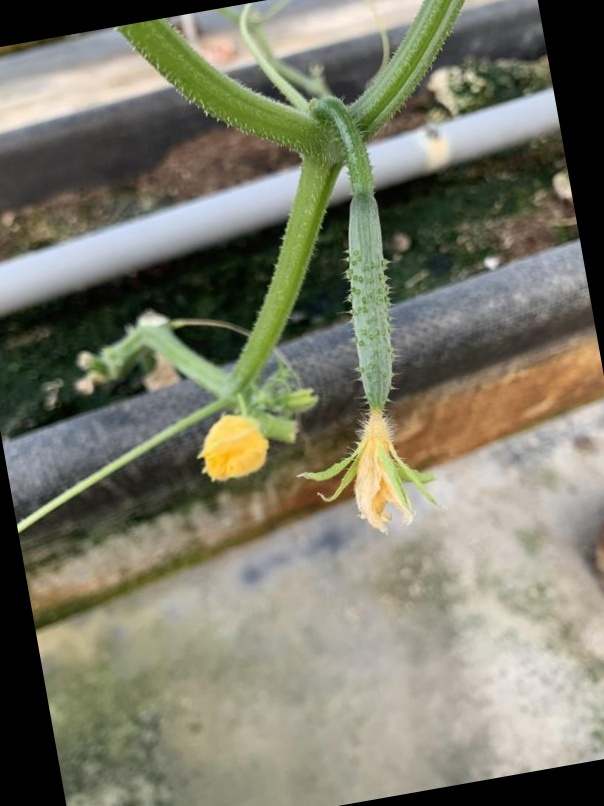bear: (297, 150, 448, 550)
